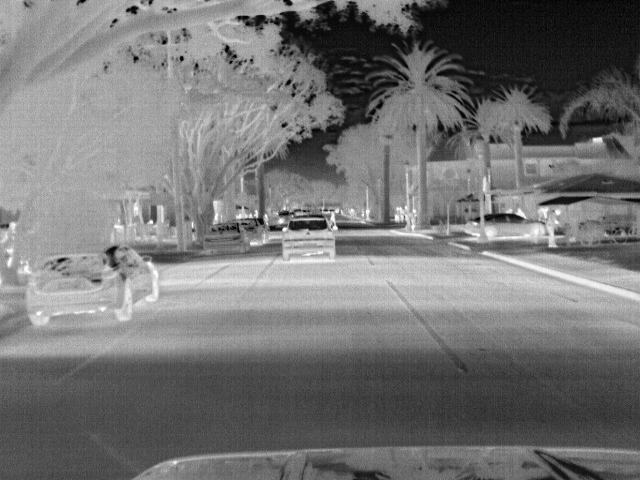car: (25, 243, 161, 332), (280, 213, 335, 260), (482, 211, 547, 239), (201, 218, 247, 256), (240, 218, 266, 244), (465, 215, 482, 237)
person: (2, 220, 19, 268), (545, 207, 563, 250), (408, 207, 420, 233)
